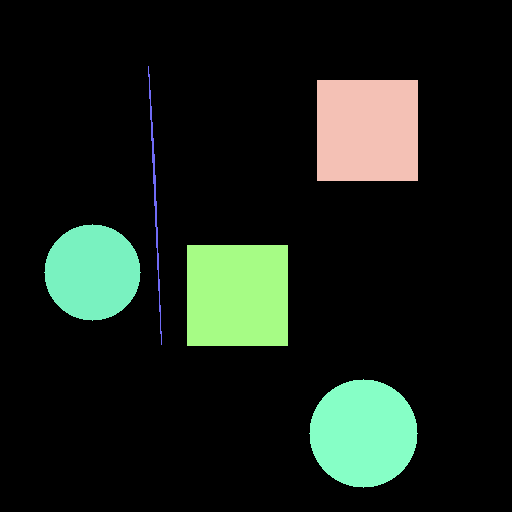circle: (309, 379, 417, 487), (44, 224, 140, 320)
square: (187, 245, 287, 345), (317, 80, 417, 180)
